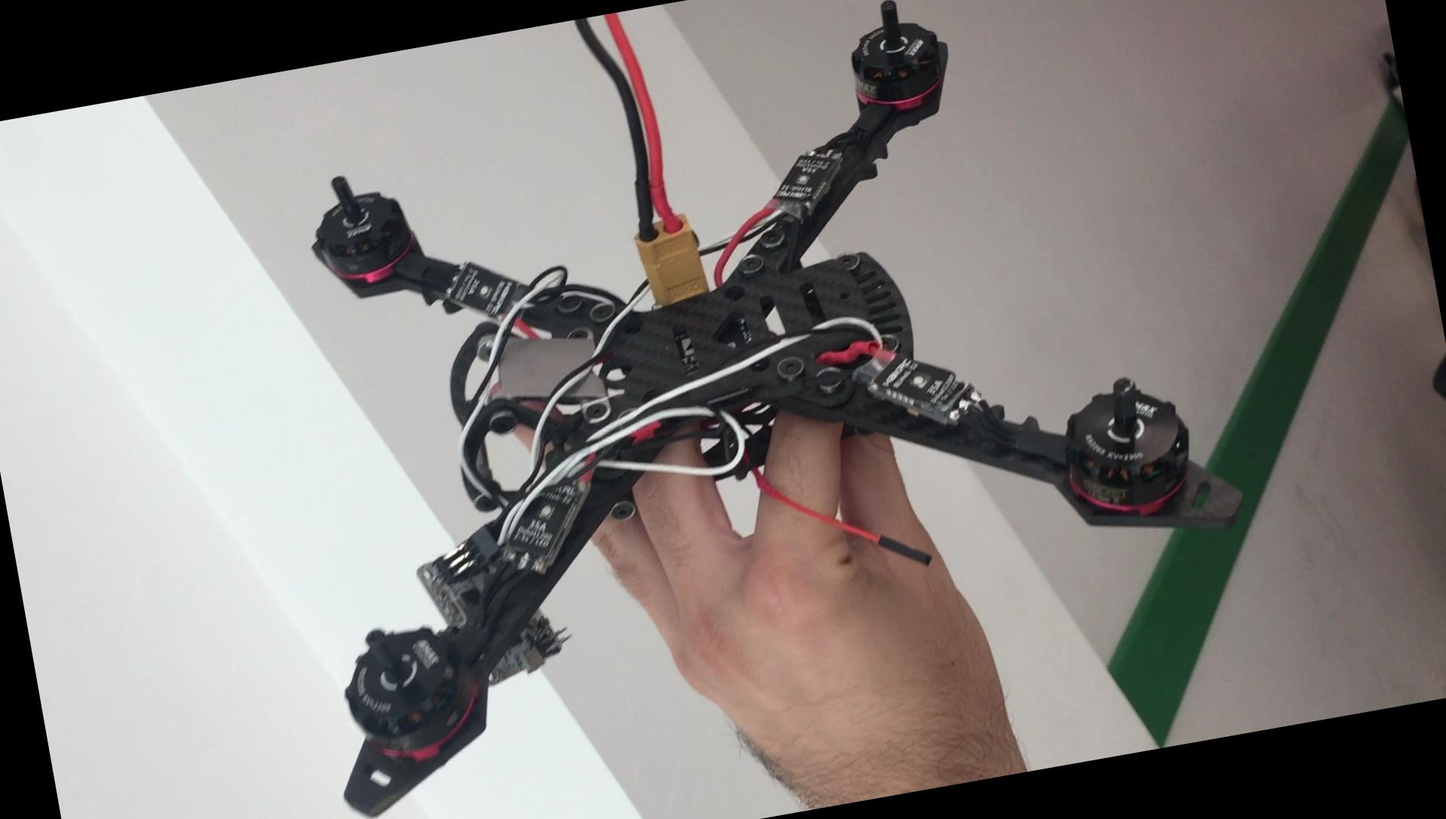drone: (246, 0, 1273, 819)
